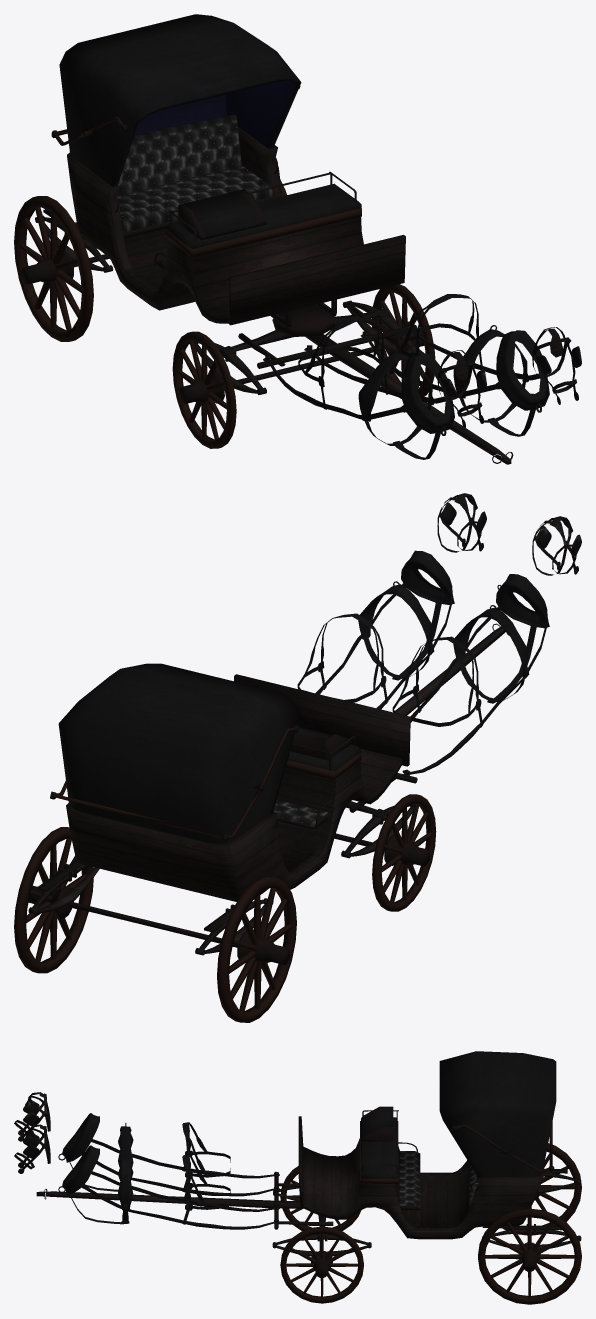
The model's file is charrete_separada (1).fbx.
3 views of the same model, one above another, from view 1: azimuth 30°, elevation 25°; view 2: azimuth 150°, elevation 25°; view 3: azimuth 270°, elevation 25° (orthographic). The views are drawn at different scales.
Visible parts, largest first — view 1: charrete, roda_tras_esq, arreio_dir, arreio__esq, roda_frente_esq, roda_frente_dir, madeira_centro, cabresto_esq, cabresto_dir; view 2: charrete, roda_tras_esq, arreio_dir, roda_tras_dir, arreio__esq, roda_frente_esq, cabresto_dir, cabresto_esq, madeira_centro; view 3: charrete, roda_tras_dir, arreio__esq, arreio_dir, roda_frente_dir, madeira_centro, roda_tras_esq, cabresto_esq, cabresto_dir, roda_frente_esq.
Boxes of the visible parts, x1,y1,x2,y2 form: charrete: [35, 14, 513, 463]; roda_tras_esq: [14, 196, 93, 341]; arreio_dir: [263, 317, 454, 459]; arreio__esq: [360, 294, 549, 436]; roda_frente_esq: [172, 331, 236, 448]; roda_frente_dir: [371, 284, 435, 396]; madeira_centro: [305, 334, 511, 464]; cabresto_esq: [532, 327, 581, 404]; cabresto_dir: [437, 350, 486, 427]; charrete: [28, 623, 509, 955]; roda_tras_esq: [217, 876, 296, 1022]; arreio_dir: [392, 574, 549, 776]; roda_tras_dir: [14, 827, 93, 973]; arreio__esq: [297, 550, 454, 709]; roda_frente_esq: [372, 794, 436, 911]; cabresto_dir: [532, 516, 581, 575]; cabresto_esq: [437, 493, 486, 552]; madeira_centro: [395, 626, 505, 715]; charrete: [43, 1051, 581, 1256]; roda_tras_dir: [478, 1208, 581, 1304]; arreio__esq: [58, 1145, 279, 1229]; arreio_dir: [58, 1113, 279, 1196]; roda_frente_dir: [280, 1226, 363, 1303]; madeira_centro: [36, 1191, 303, 1208]; roda_tras_esq: [502, 1143, 581, 1235]; cabresto_esq: [14, 1124, 50, 1173]; cabresto_dir: [14, 1092, 50, 1141]; roda_frente_esq: [280, 1166, 361, 1230].
Size of the model in its own units: 2.35 by 2.42 by 6.36.
Materials: 1 (1 with a texture image).
